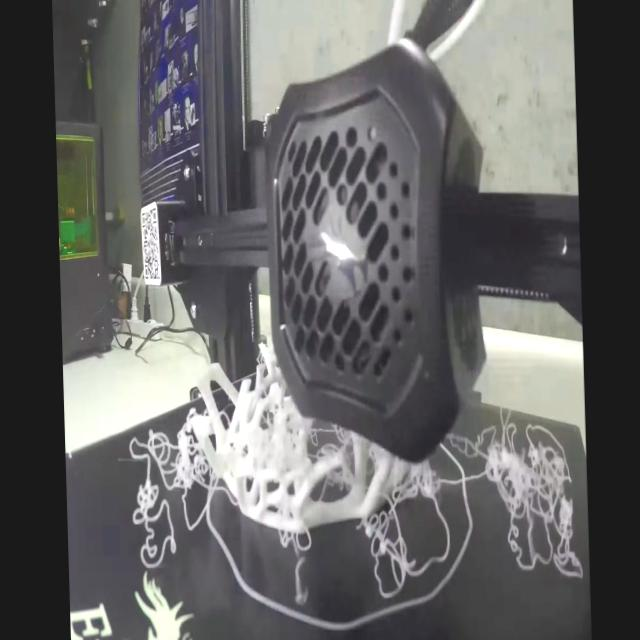spaghetti: (470, 400, 594, 599), (129, 354, 213, 588)
